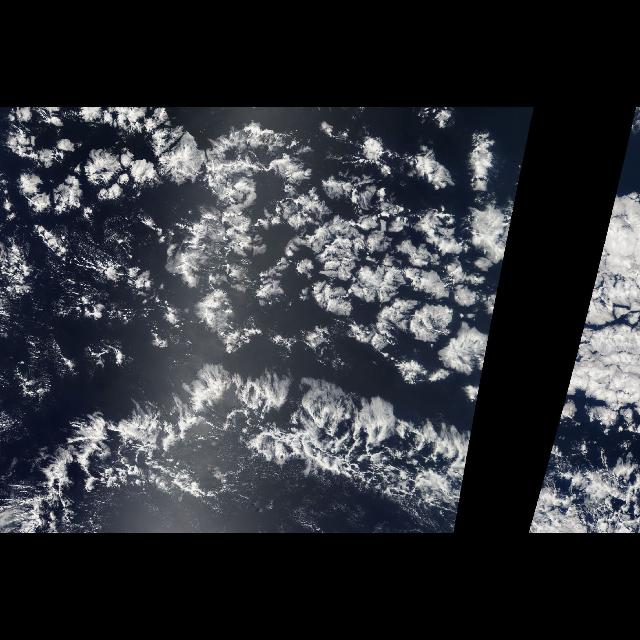Fish: (1, 358, 487, 532), (527, 365, 639, 533)
Flower: (0, 108, 536, 430), (554, 109, 640, 431)
